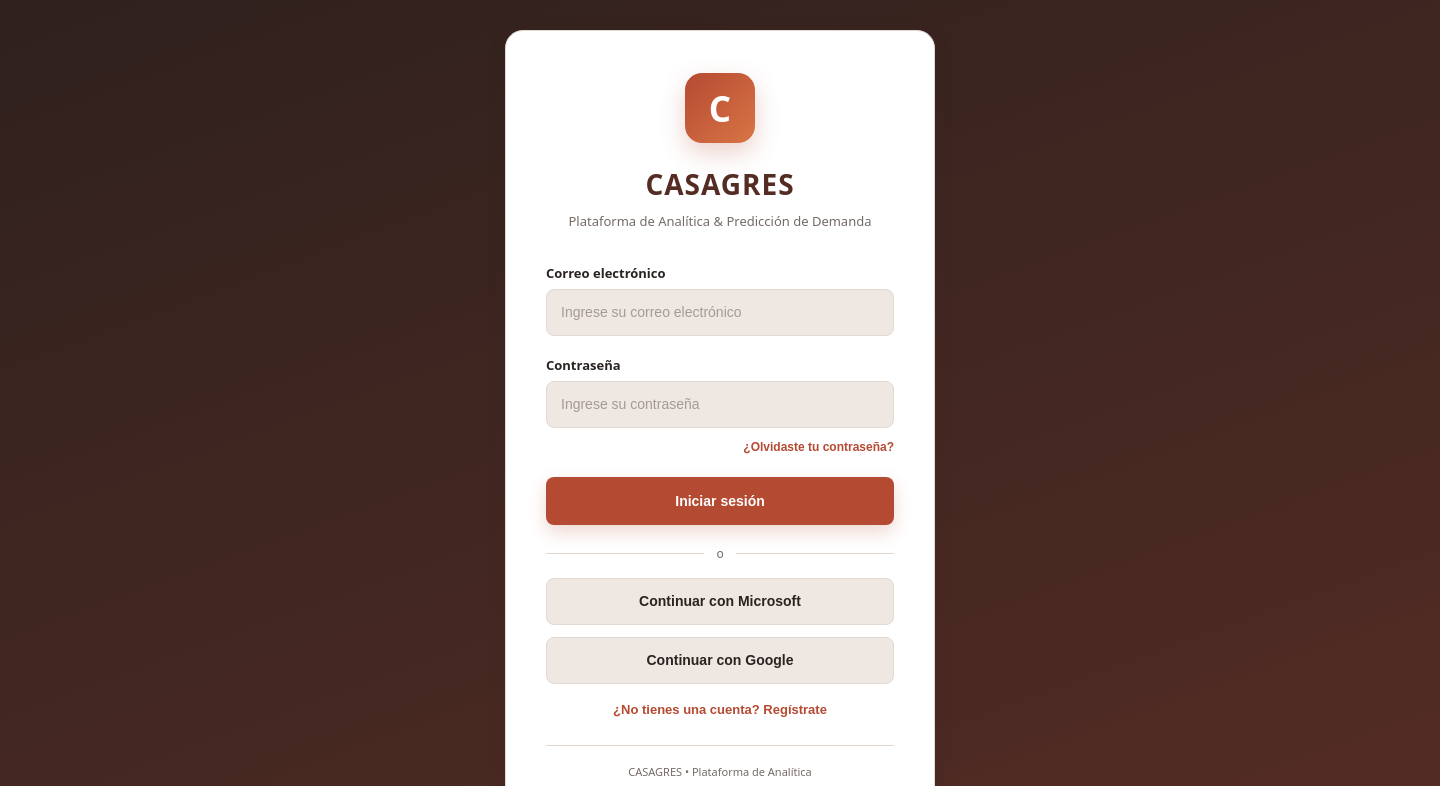
Login › cuando el backend rechaza el login por correo no verificado, ofrece reenviar la verificación
The image size is (1440, 786).
In the field with placeholder "Ingrese su correo electrónico": (720, 312) x1=546 y1=288 x2=894 y2=336, type "jperez@ejemplo.com"
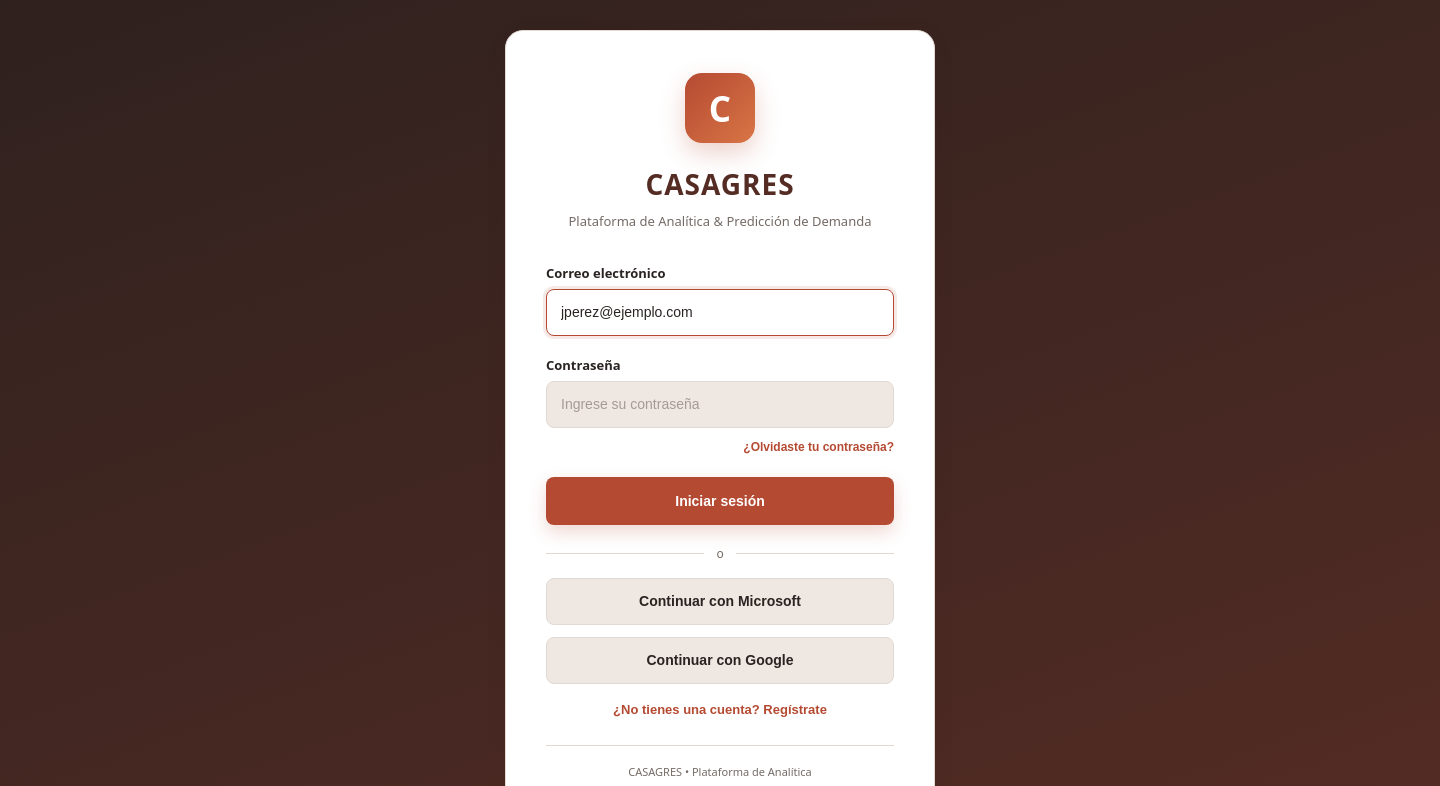
In the password field with placeholder "Ingrese su contraseña": (720, 404) x1=546 y1=380 x2=894 y2=428, type "clave123"
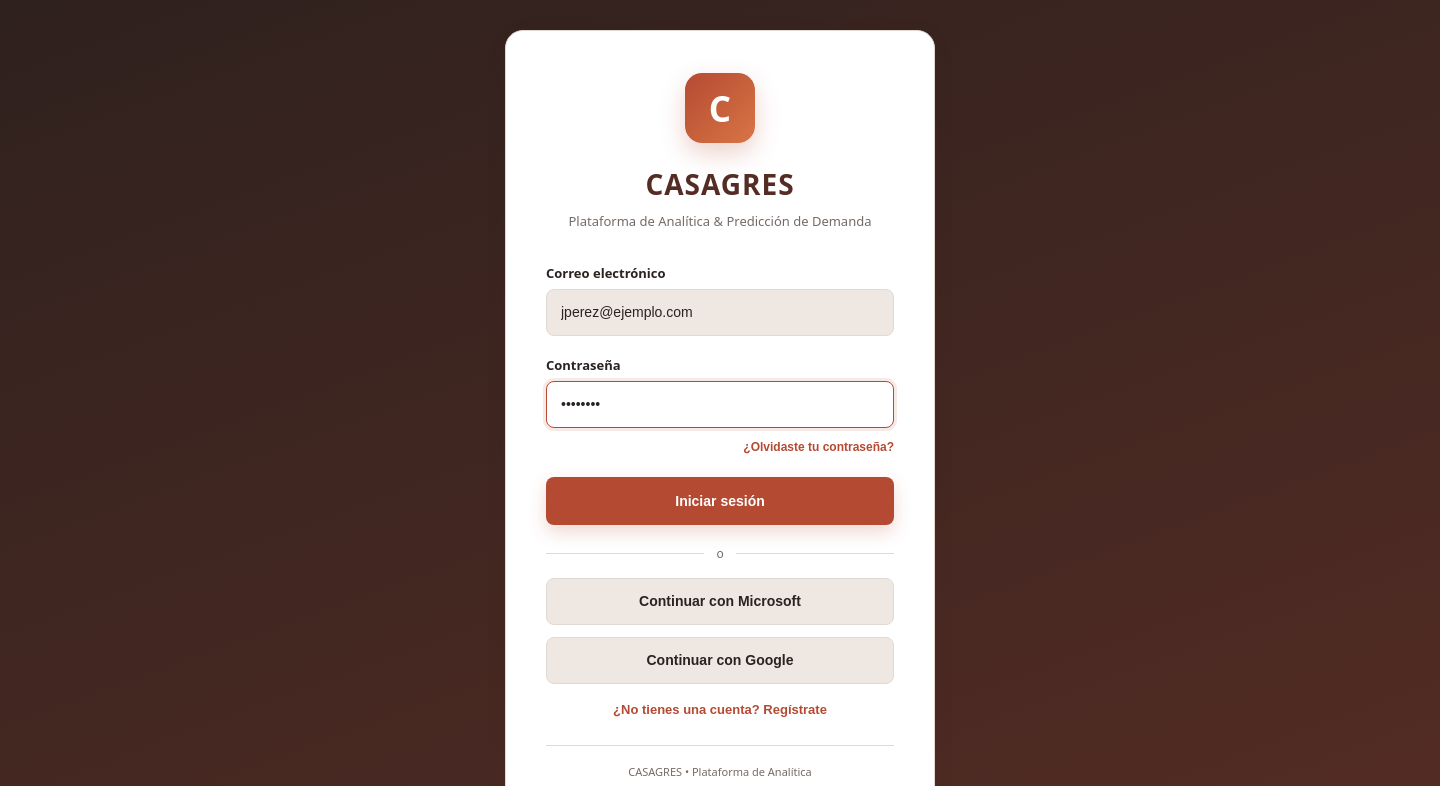
Click the button "Iniciar sesión": (720, 500) x1=546 y1=476 x2=894 y2=524
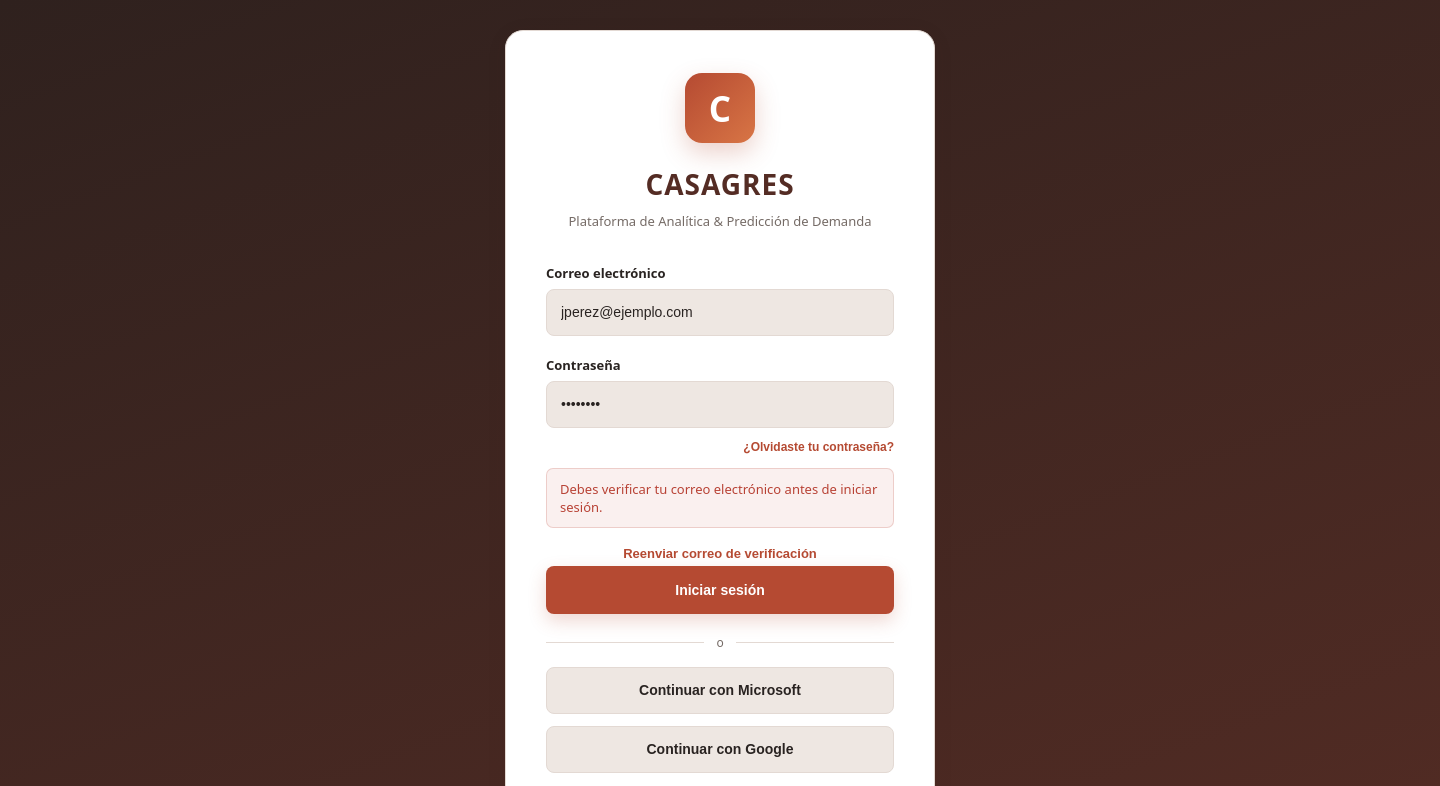
Result: the text "Debes verificar tu correo electrónico antes de iniciar sesión." is shown at x1=546 y1=468 x2=894 y2=528
Click the button "Reenviar correo de verificación": (720, 553) x1=546 y1=546 x2=894 y2=561
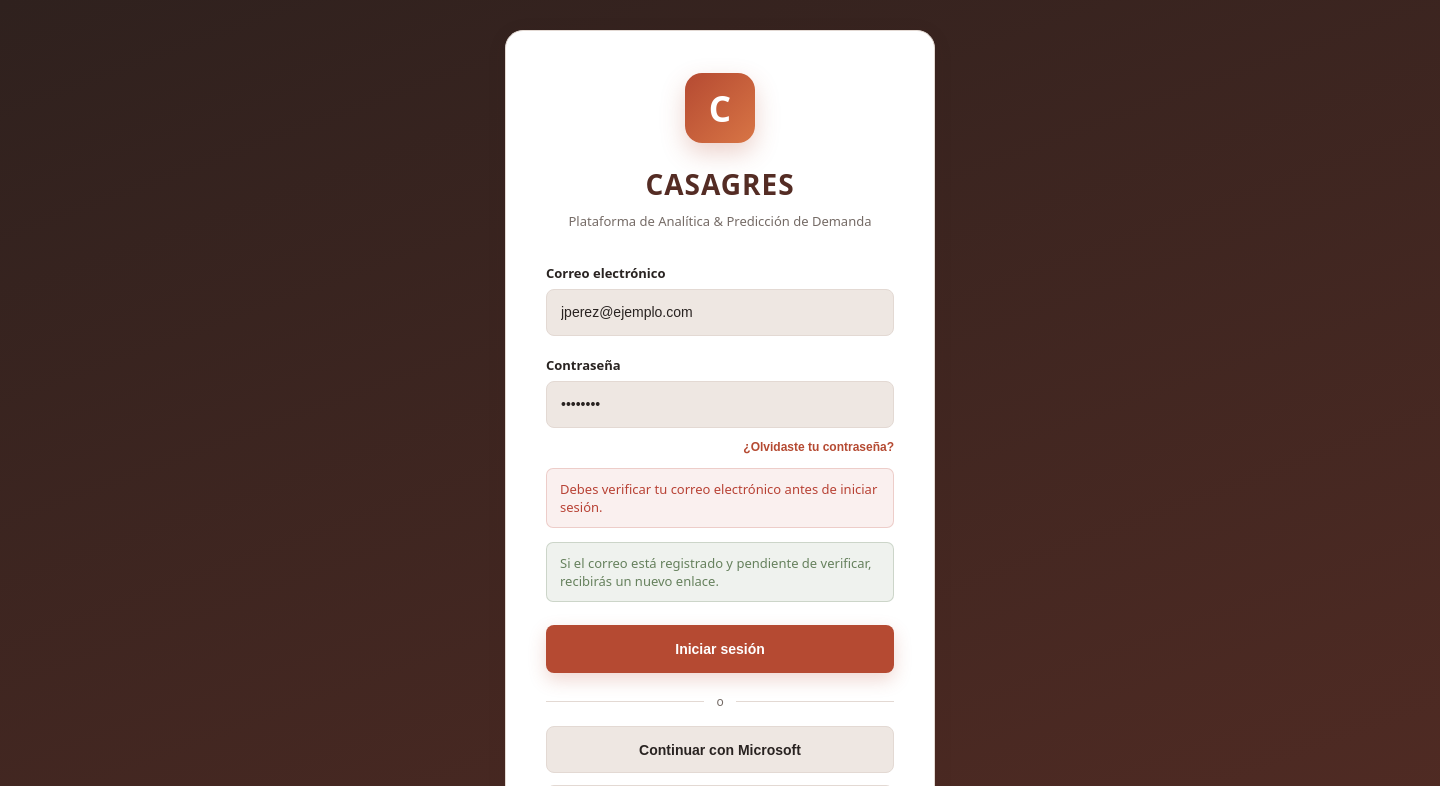
Result: the text "Si el correo está registrado y pendiente de verificar, recibirás un nuevo enlace." is shown at x1=560 y1=554 x2=871 y2=590
